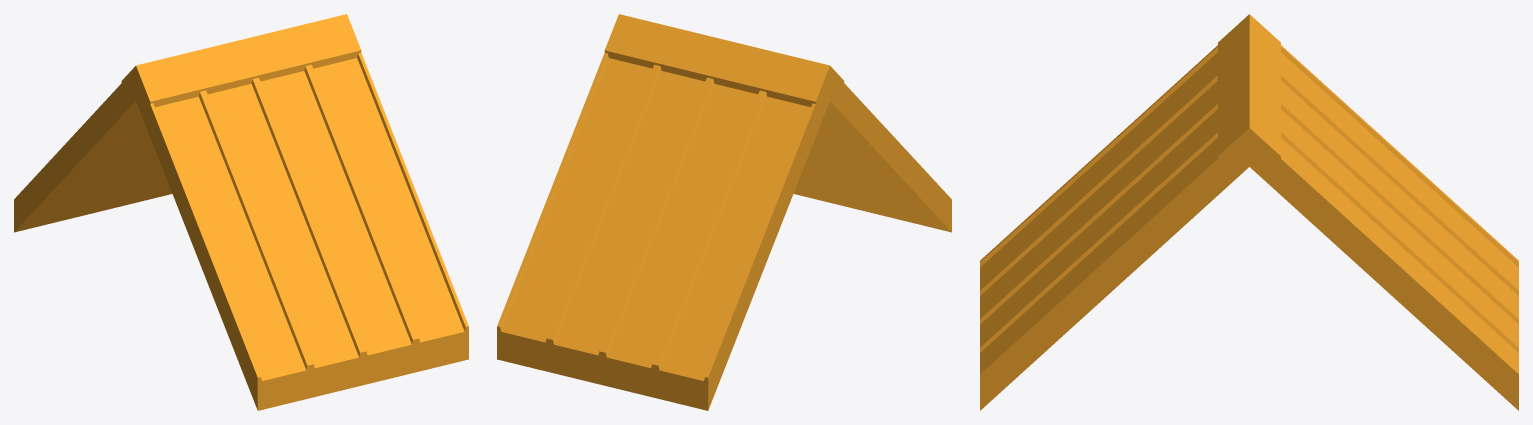
The model's file is SM_Roof_Metal_Regular_2x2m_Center.fbx.
3 renders of one model, left to right at view 1: azimuth 30°, elevation 25°; view 2: azimuth 150°, elevation 25°; view 3: azimuth 270°, elevation 25°, orthographic. The views are drawn at different scales.
Visible parts, largest first — view 1: roof-metal-regular-2x2m-center; view 2: roof-metal-regular-2x2m-center; view 3: roof-metal-regular-2x2m-center.
Part boxes in pixels (left/top/right/bottom): roof-metal-regular-2x2m-center: left=14, top=14, right=468, bottom=410; roof-metal-regular-2x2m-center: left=497, top=14, right=951, bottom=410; roof-metal-regular-2x2m-center: left=980, top=14, right=1518, bottom=410.
Size of the model in its own units: 2 by 2.32 by 4.
